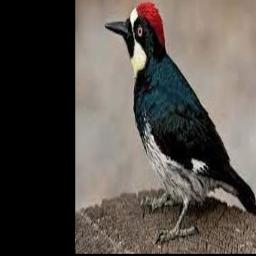Woodpecker: (104, 1, 256, 240)
